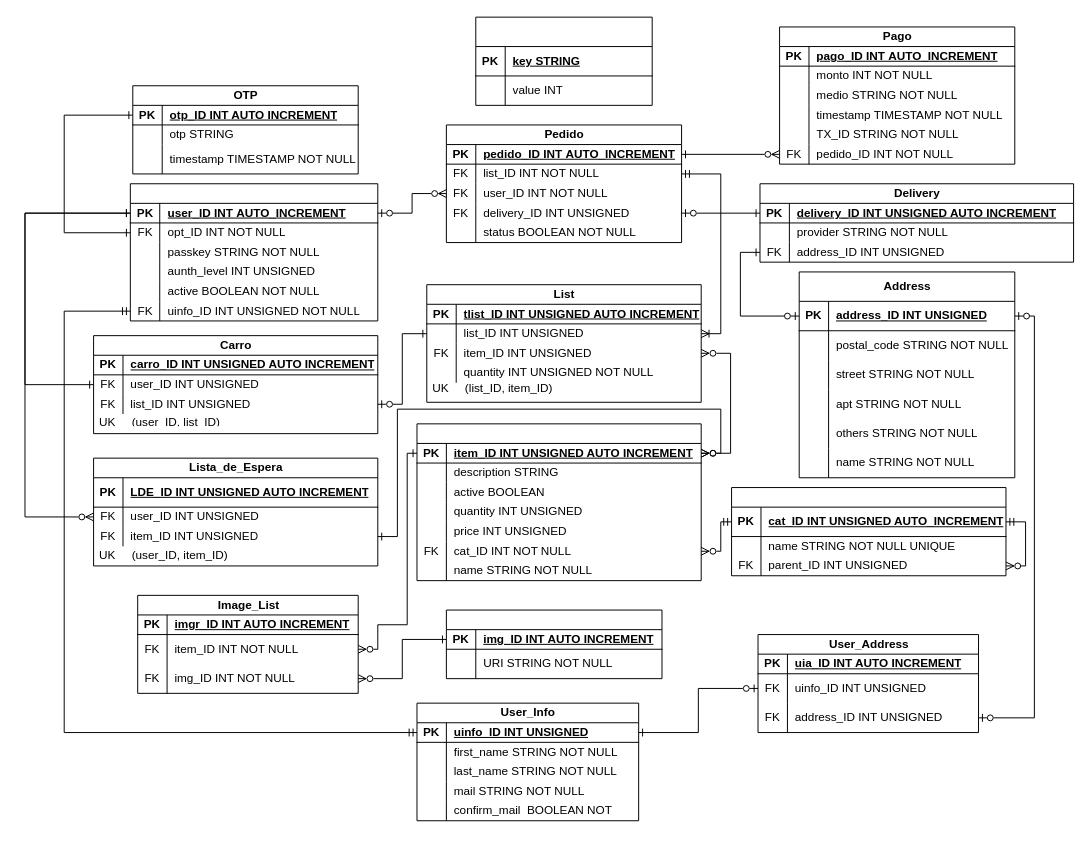
Image size: 1091x847. Some labels were removed from this diagram. The shapes that lost their labels are listed below. From the top down, each one's box as (x1, y1, x2, y2) in pixels, then its label:
(475, 16, 652, 105): Config
(129, 183, 378, 321): Usuario
(416, 423, 701, 581): Inventario
(731, 487, 1006, 576): Categoria
(445, 609, 662, 679): Image
